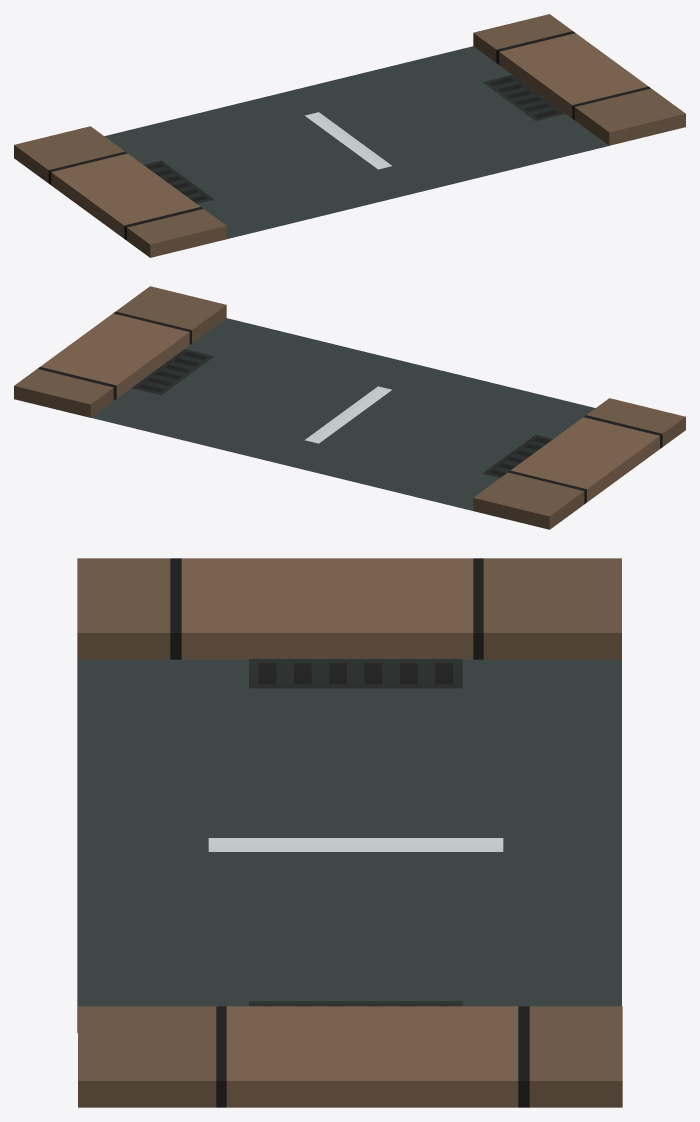
The model's file is Road_1_108.fbx.
The picture shows the model from 3 angles, top to bottom: view 1: azimuth 30°, elevation 25°; view 2: azimuth 150°, elevation 25°; view 3: azimuth 270°, elevation 25°; orthographic projection. The views are drawn at different scales.
Parts seen in each view (by area): view 1: Road_1_108; view 2: Road_1_108; view 3: Road_1_108.
Part boxes in pixels (x1,y1,x2,y2): Road_1_108: (14,14,685,257); Road_1_108: (14,286,685,529); Road_1_108: (77,558,622,1107).
Size of the model in its own units: 1260 by 30 by 555.
